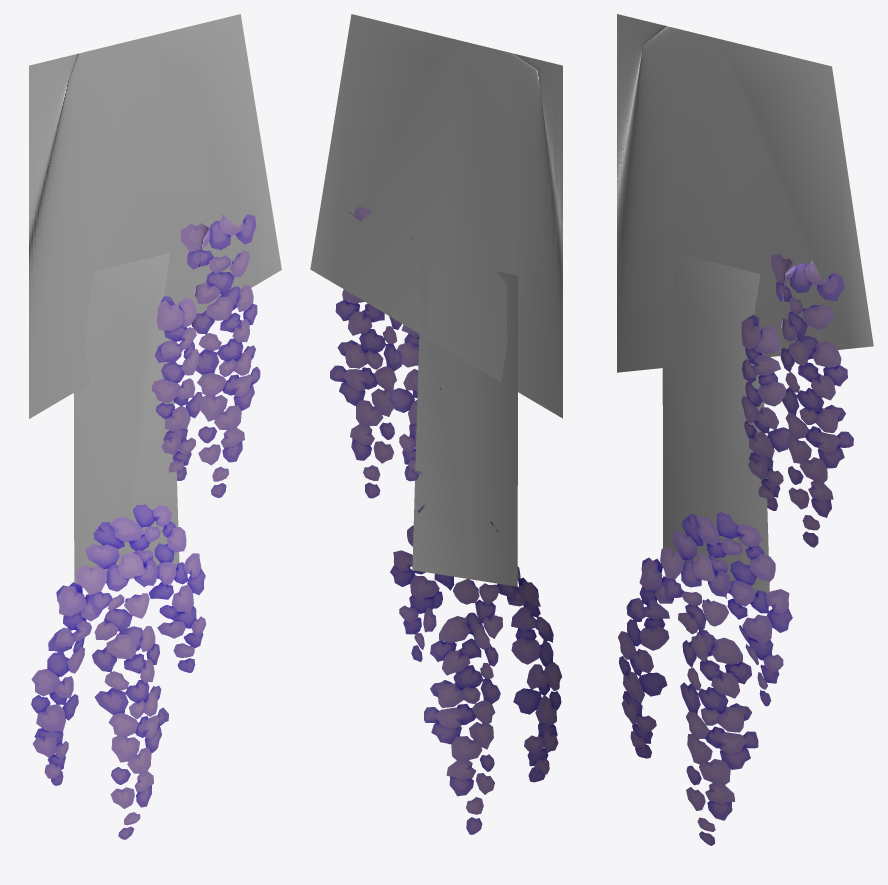
File: SM_Env_Vines_Preset_Wall_04.fbx
3 views of the same model, side by side, from view 1: azimuth 30°, elevation 25°; view 2: azimuth 150°, elevation 25°; view 3: azimuth 330°, elevation 25° (orthographic).
Parts seen in each view (by area): view 1: SM_Env_Vines_Preset_Wall_04; view 2: SM_Env_Vines_Preset_Wall_04; view 3: SM_Env_Vines_Preset_Wall_04.
Boxes of the visible parts, x1,y1,x2,y2 form: SM_Env_Vines_Preset_Wall_04: (29, 14, 281, 839); SM_Env_Vines_Preset_Wall_04: (310, 14, 562, 834); SM_Env_Vines_Preset_Wall_04: (617, 14, 873, 845).
Size of the model in its own units: 96.5 by 280 by 9.43.
